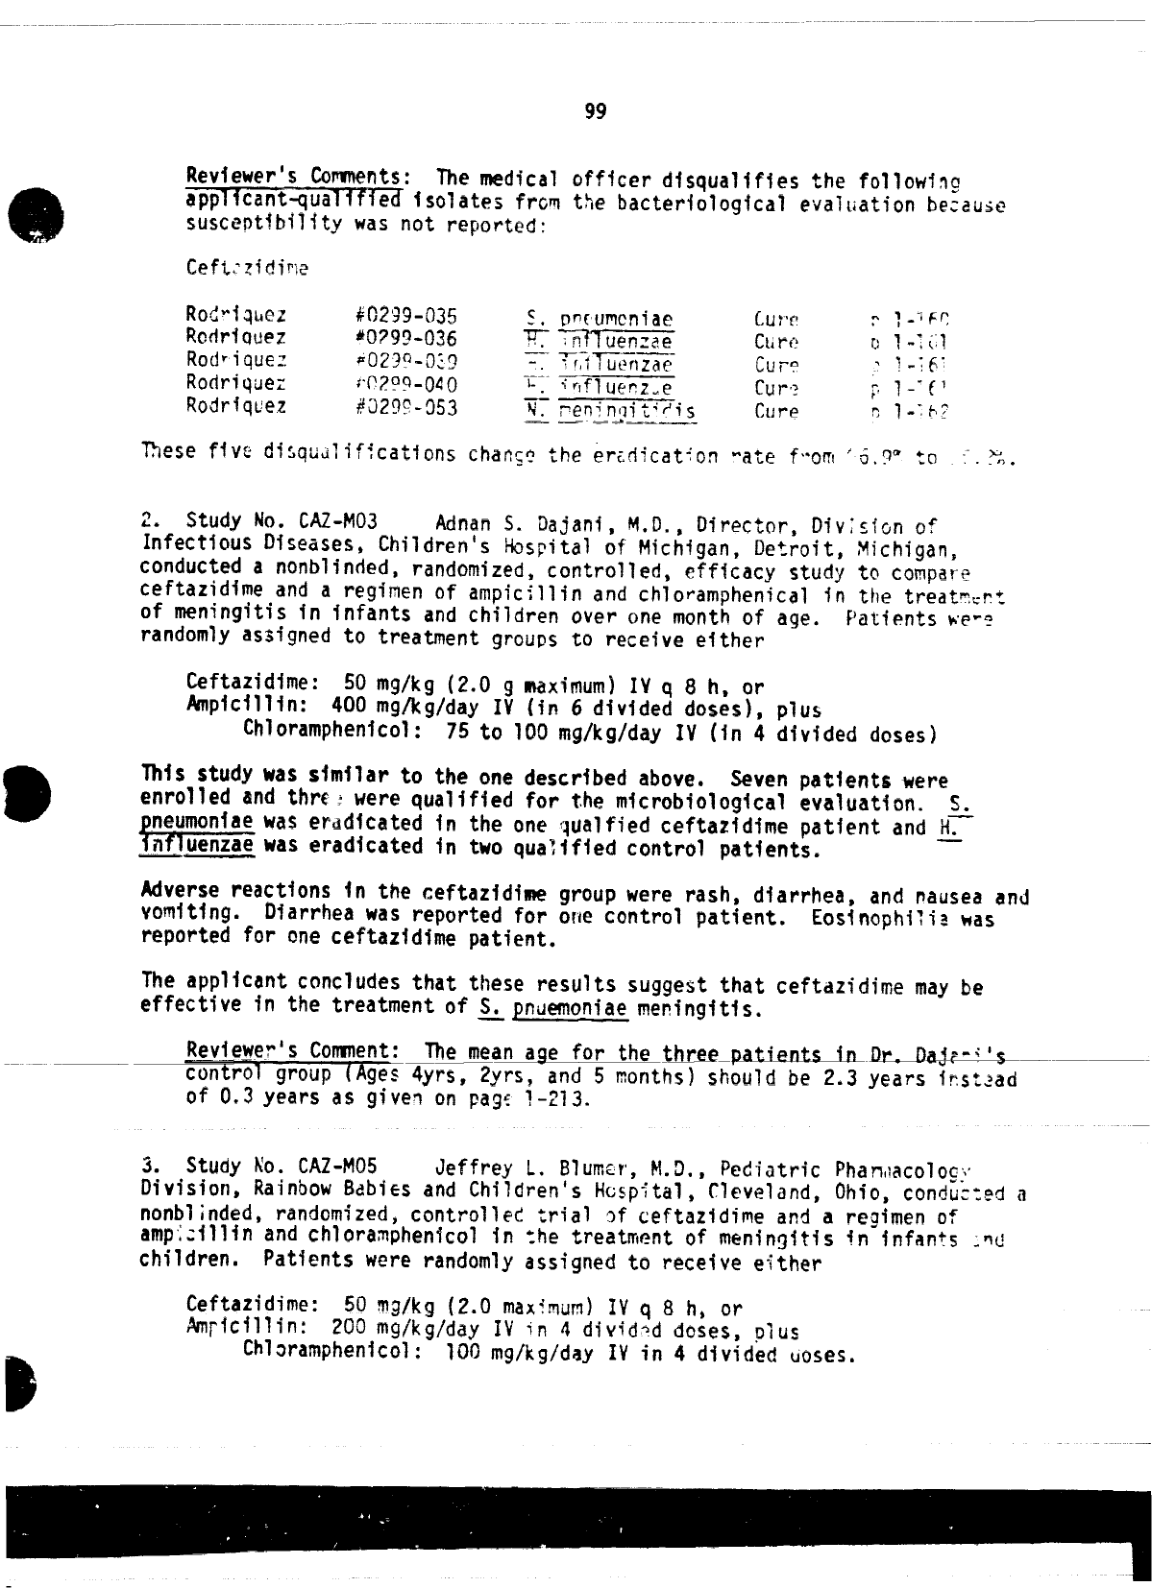nolines: (183, 302, 951, 427)
